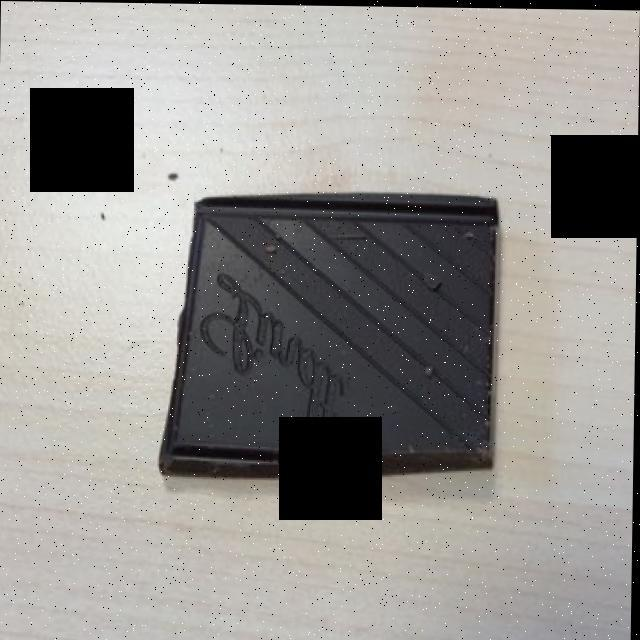chocolate: (160, 188, 504, 465)
